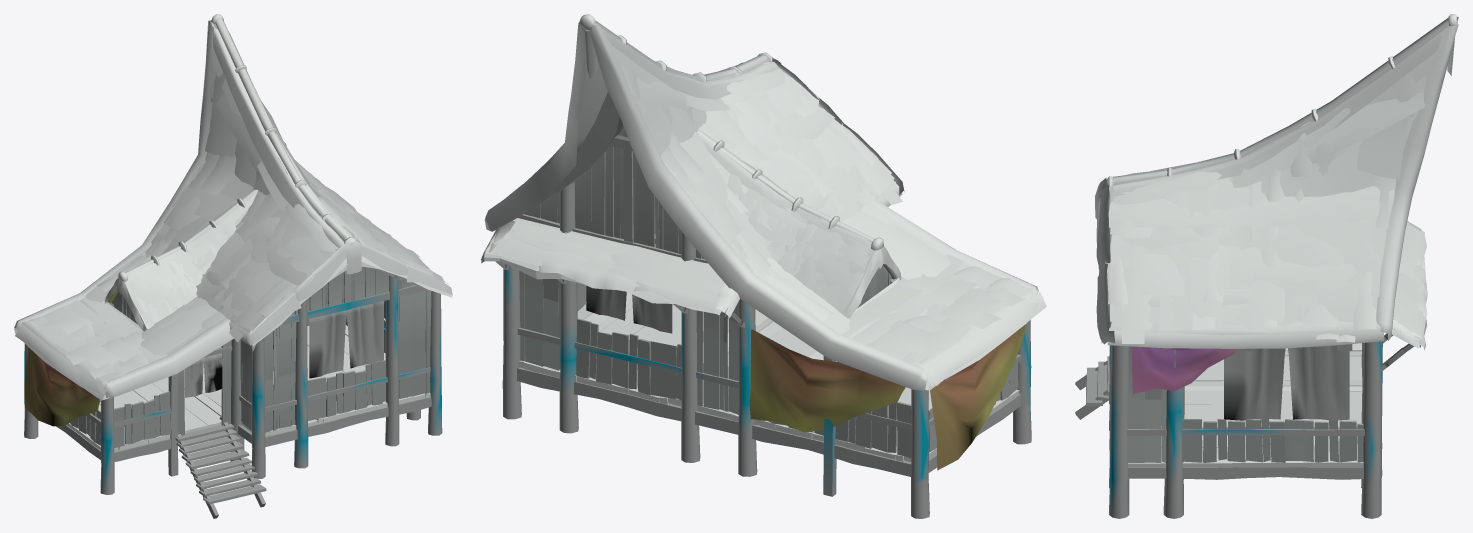
3 renders of one model, left to right at view 1: azimuth 30°, elevation 25°; view 2: azimuth 150°, elevation 25°; view 3: azimuth 270°, elevation 25°, orthographic. The views are drawn at different scales.
Visible parts, largest first — view 1: G:\FFXIV-MapTools\exports\m5f1\bg\ex4\02_mid_m5\fld\m5f1\bgp (×6); view 2: G:\FFXIV-MapTools\exports\m5f1\bg\ex4\02_mid_m5\fld\m5f1\bgp (×6); view 3: G:\FFXIV-MapTools\exports\m5f1\bg\ex4\02_mid_m5\fld\m5f1\bgp (×5).
Part boxes in pixels (x1,y1,x2,y2): G:\FFXIV-MapTools\exports\m5f1\bg\ex4\02_mid_m5\fld\m5f1\bgp (×6): (14,14,452,518); G:\FFXIV-MapTools\exports\m5f1\bg\ex4\02_mid_m5\fld\m5f1\bgp (×6): (481,14,1046,518); G:\FFXIV-MapTools\exports\m5f1\bg\ex4\02_mid_m5\fld\m5f1\bgp (×5): (1075,17,1458,518).
Bounding box in the file's own units: 23.9 × 24.33 × 18.07.
